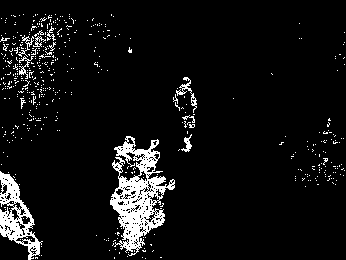person: (172, 74, 202, 146)
